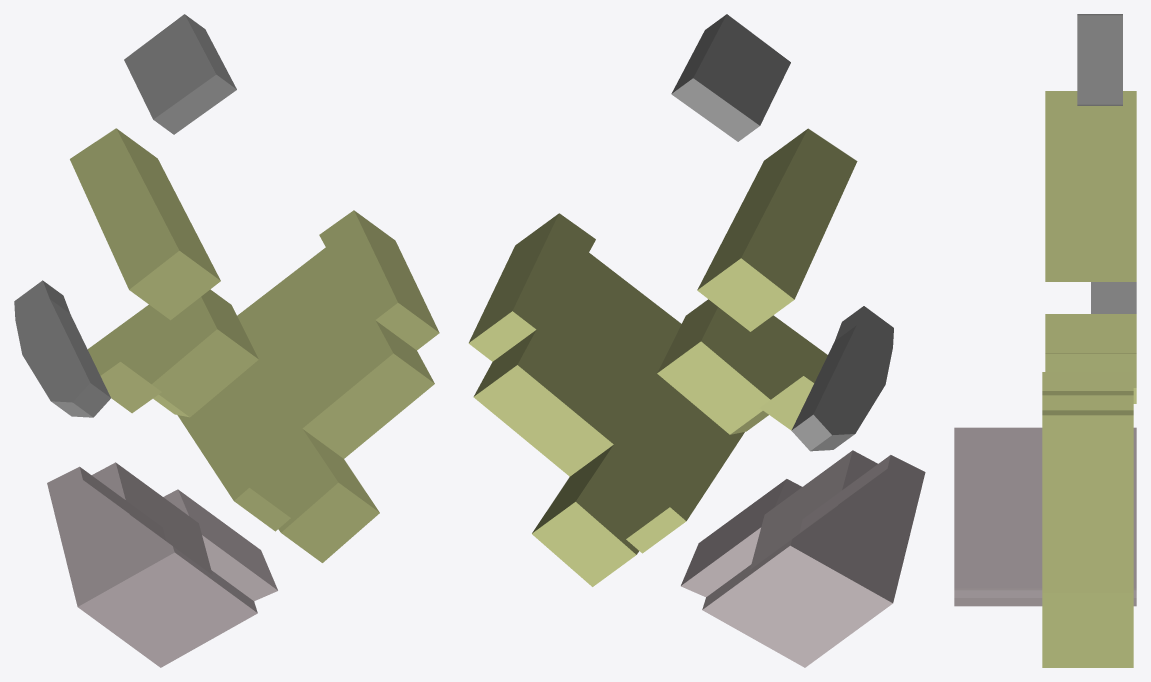
3 views of the same model, side by side, from view 1: azimuth 30°, elevation 25°; view 2: azimuth 150°, elevation 25°; view 3: azimuth 270°, elevation 25° (orthographic). The views are drawn at different scales.
Parts seen in each view (by area): view 1: 0_1_0_2_0_0_1_3_0; view 2: 0_1_0_2_0_0_1_3_0; view 3: 0_1_0_2_0_0_1_3_0.
Boxes of the visible parts, x1,y1,x2,y2 form: 0_1_0_2_0_0_1_3_0: [14, 14, 439, 667]; 0_1_0_2_0_0_1_3_0: [468, 14, 925, 667]; 0_1_0_2_0_0_1_3_0: [954, 14, 1136, 667].
Bounding box in the file's own units: 31.85 × 45.6 × 12.
